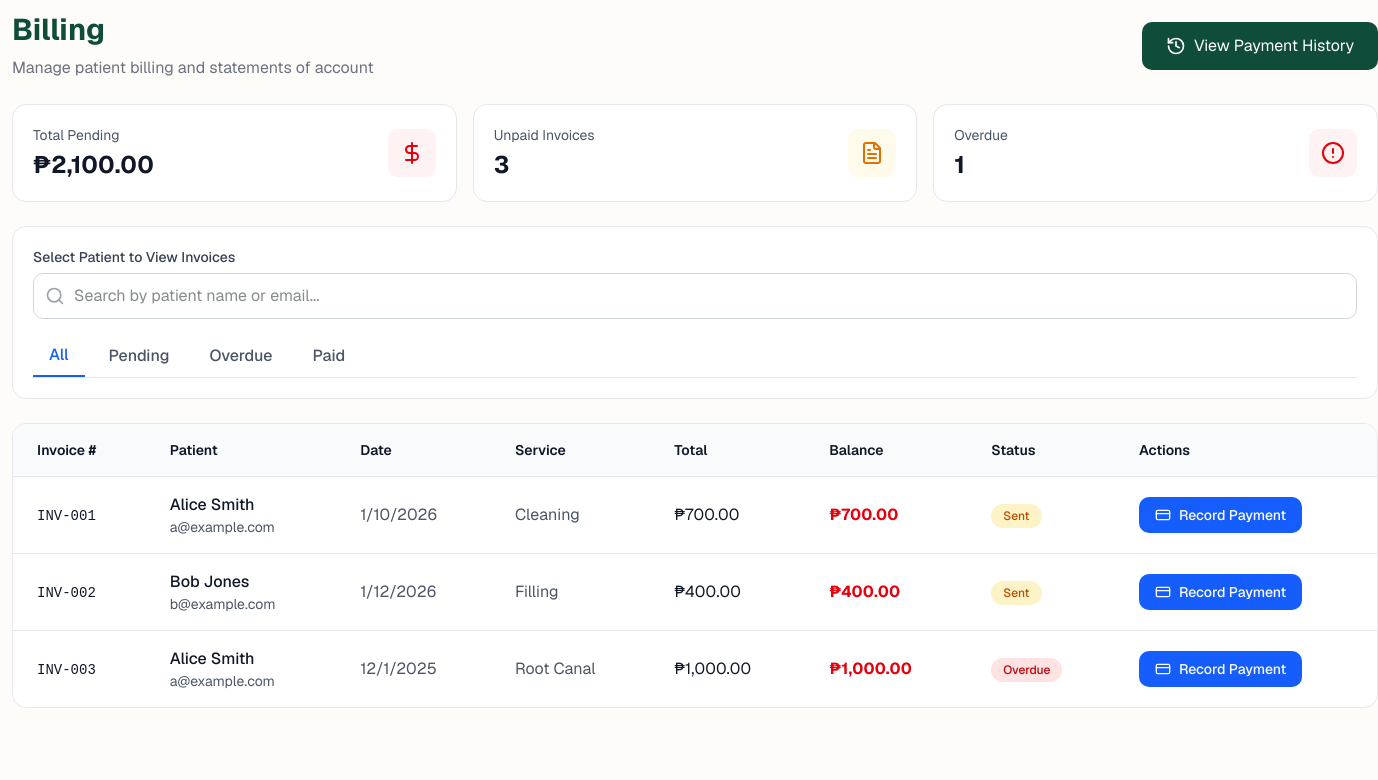
Test: Billing Page — Tab Rendering › clicking 'Paid' tab activates it and deactivates 'All'
Click the button "Paid" at point(329, 356), box [296,335,361,377]
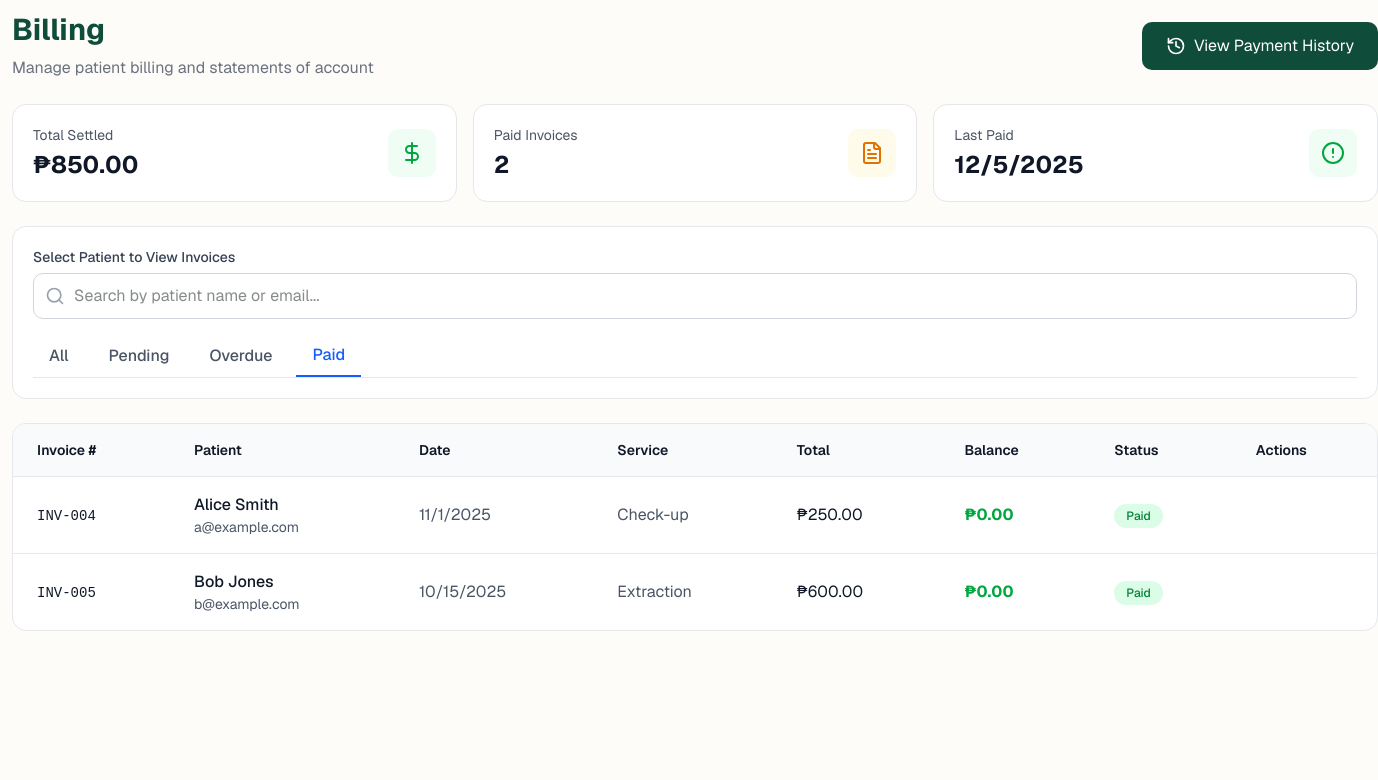
Result: the button "Paid" has class "text-blue-600" at [296,335,361,377]
